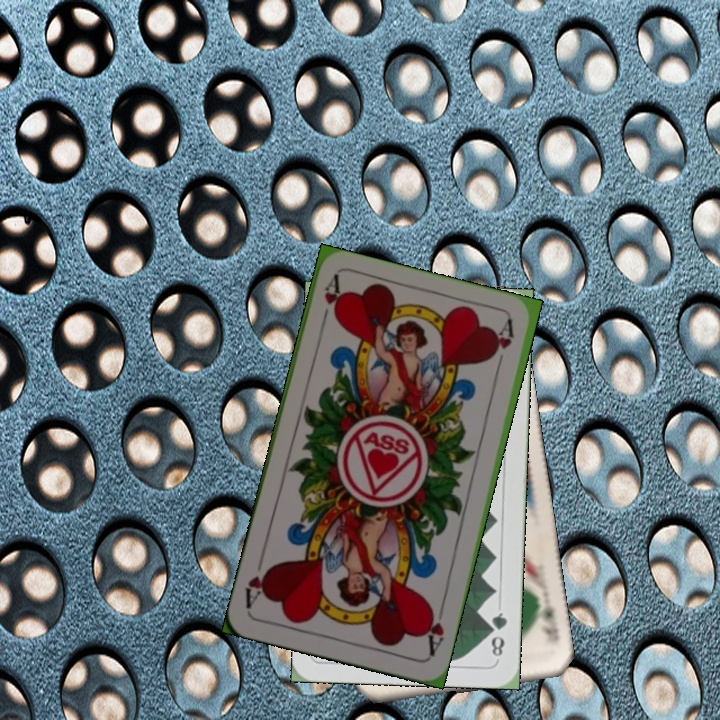G8: (486, 608, 510, 659)
GK: (538, 609, 562, 640)
HA: (316, 273, 343, 331), (420, 603, 447, 659)
